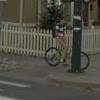Bicycle: (39, 29, 93, 75)
